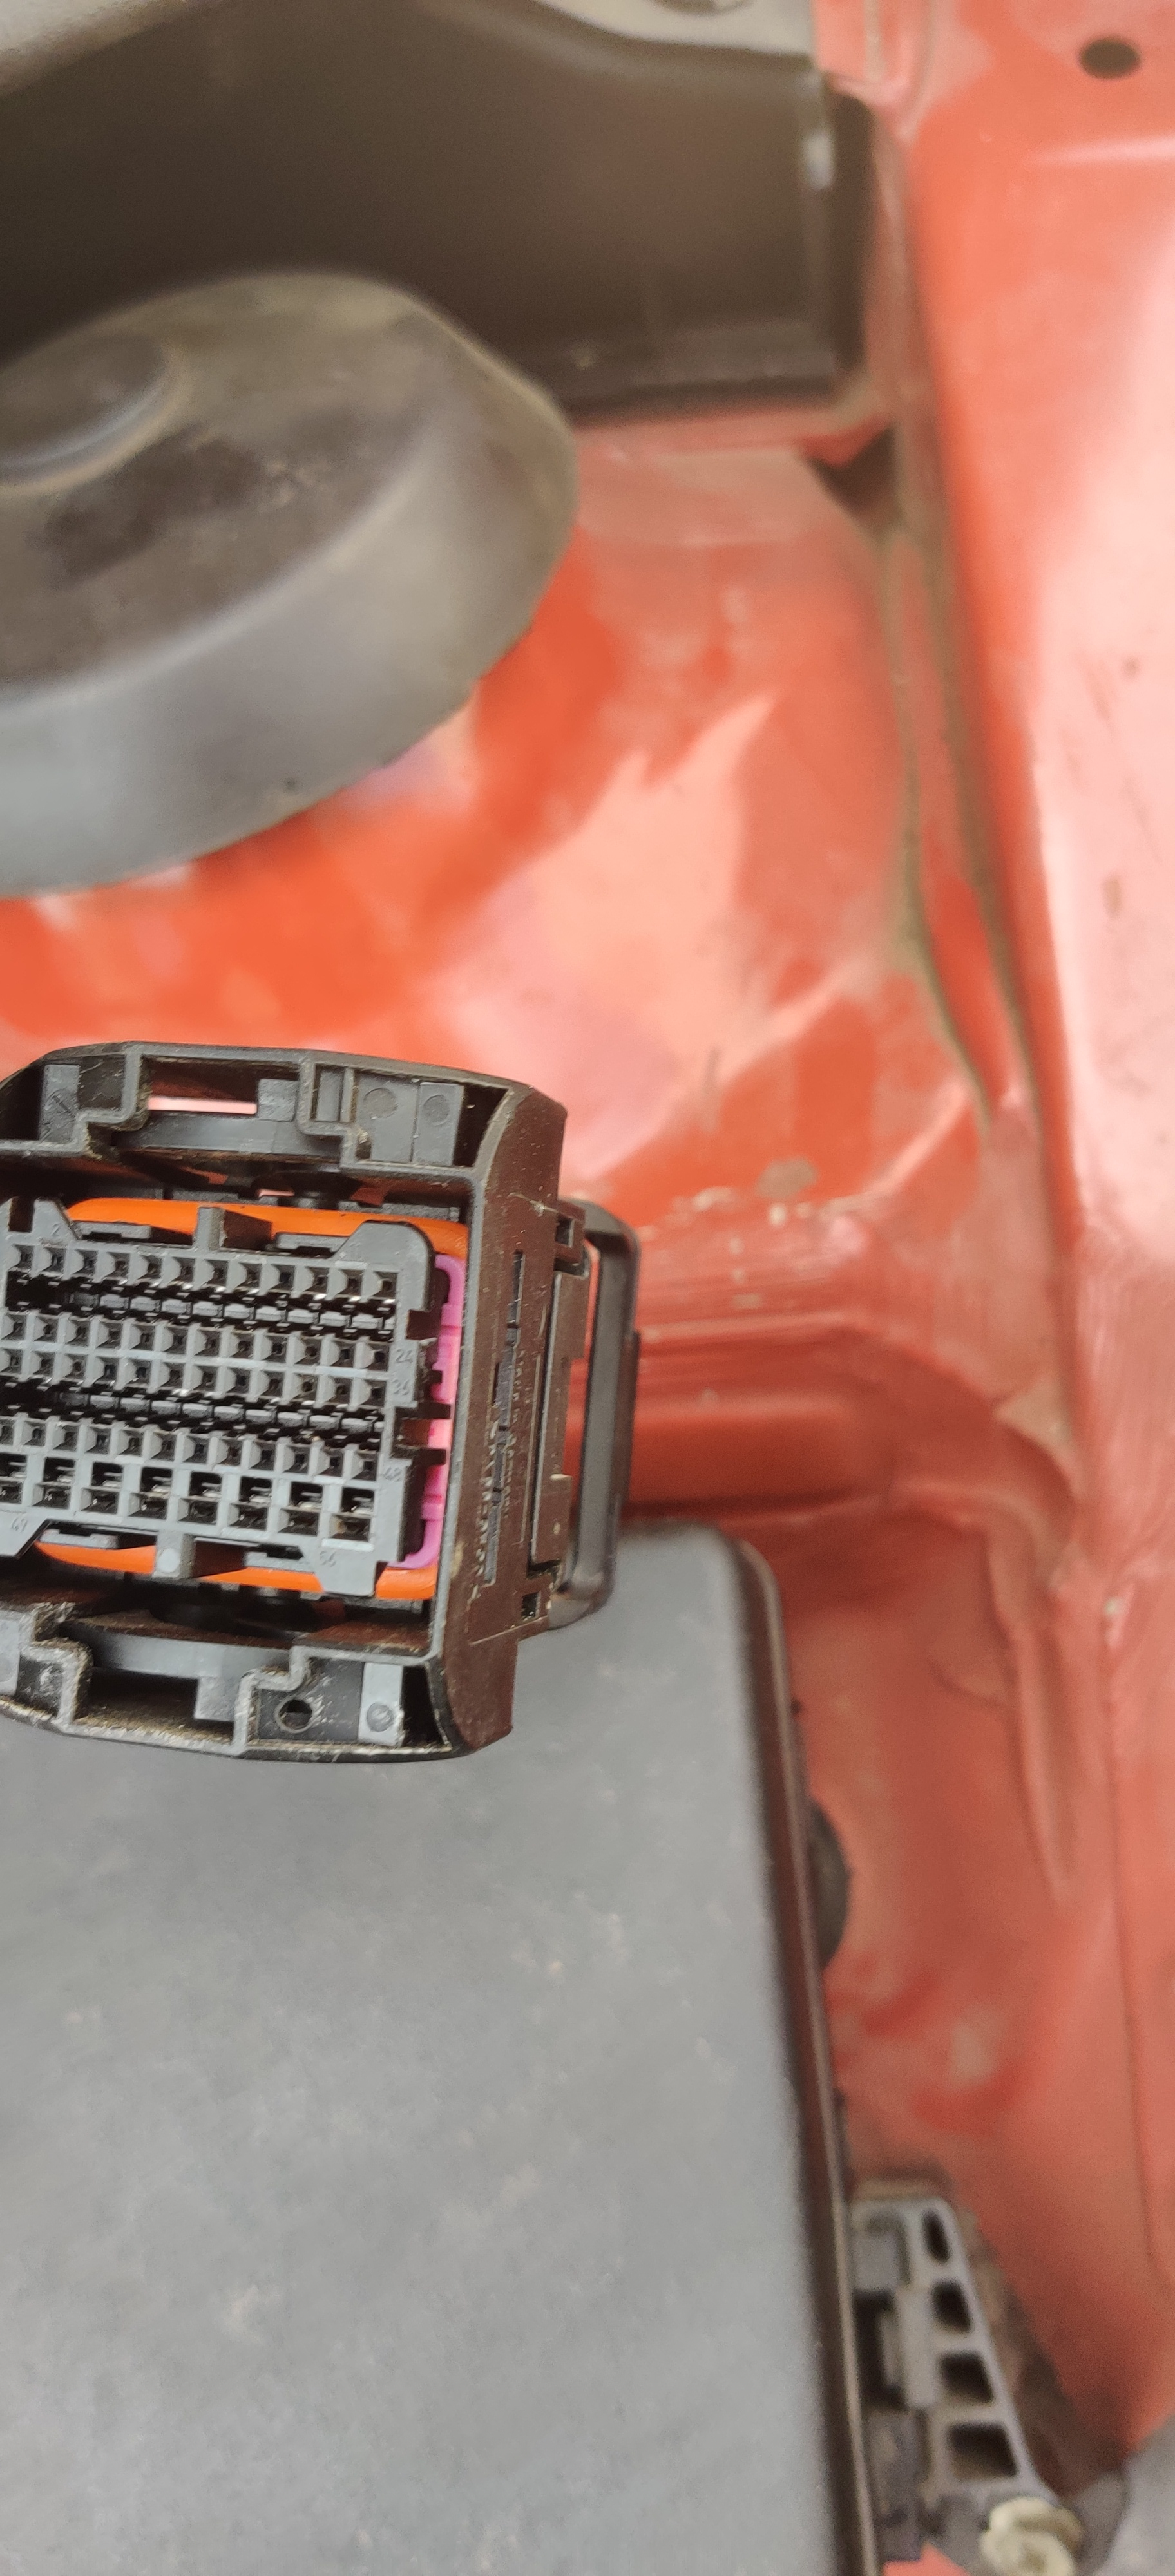connector: (0, 1022, 656, 1792)
